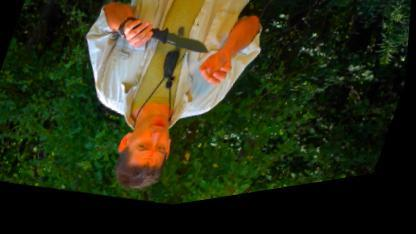knife: (126, 11, 220, 74)
